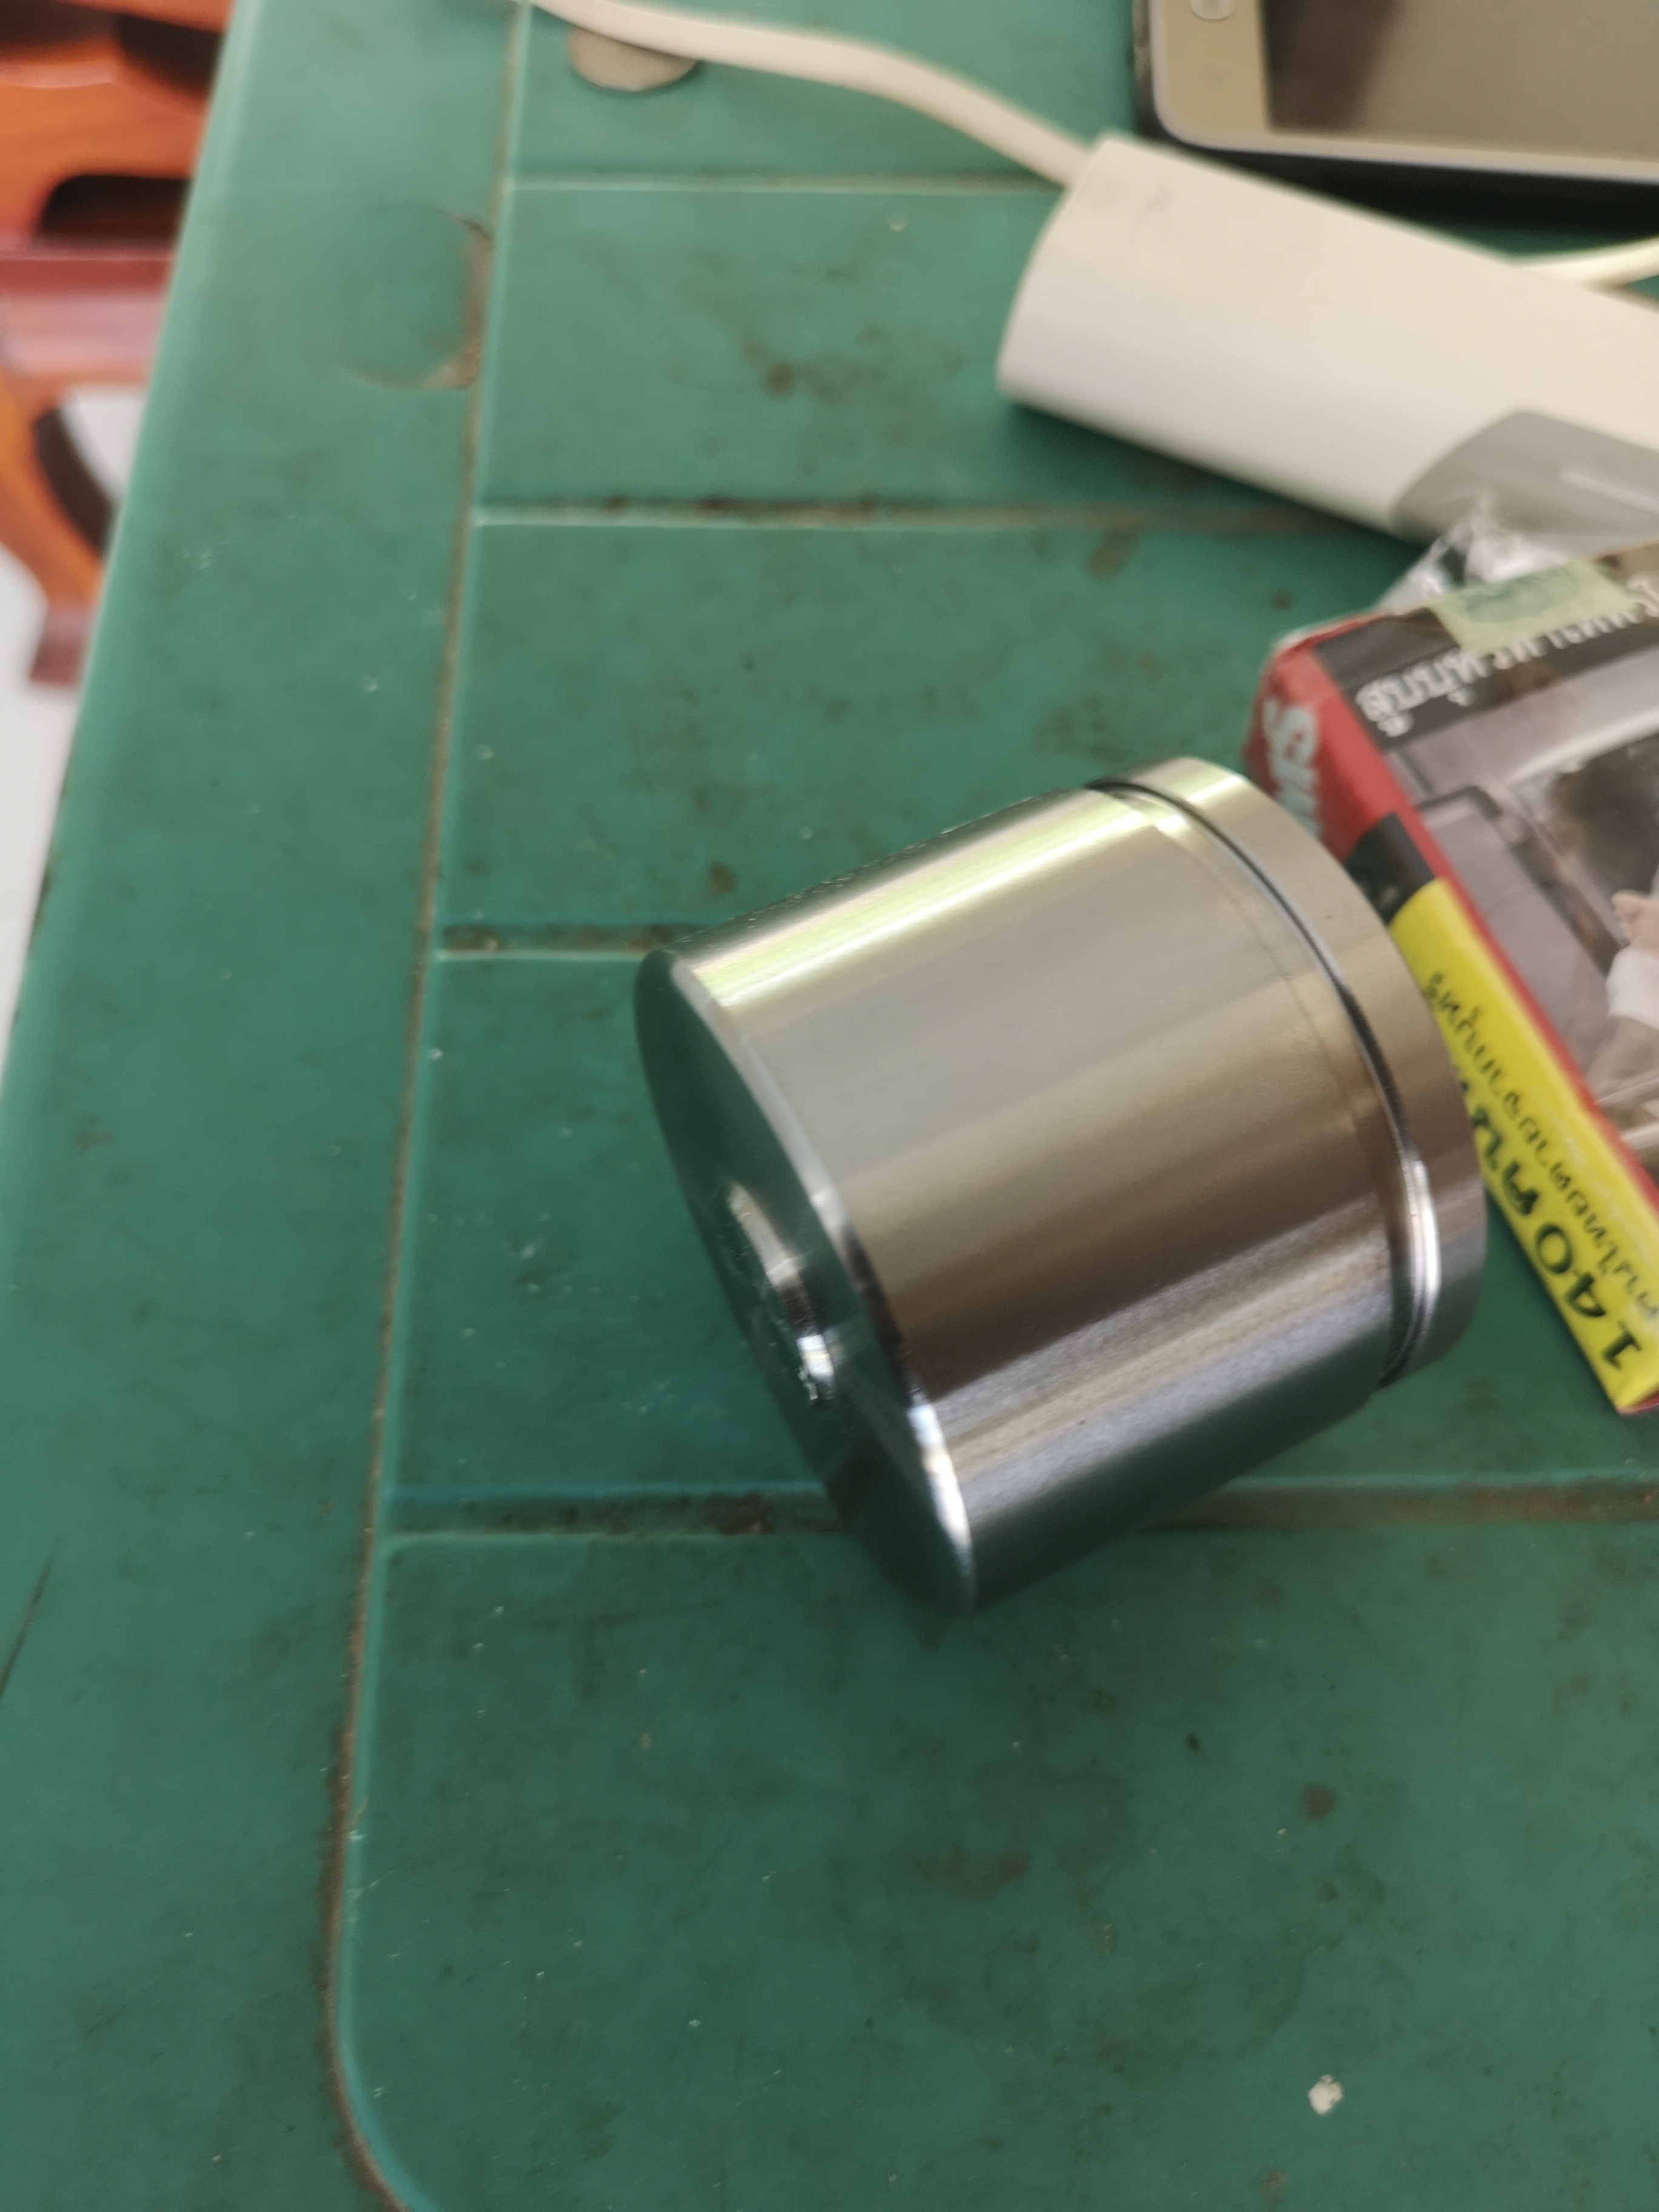ลูกสูบดิสเบรค: (610, 718, 1509, 1618)
